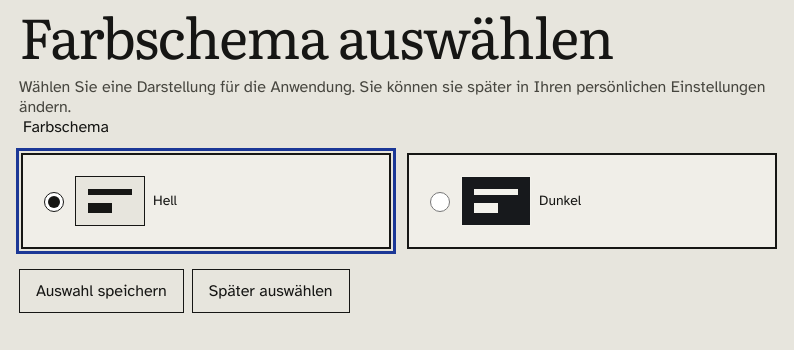
Test: first login theme choice › keeps the choice open and announces a save failure
Click the button "Auswahl speichern": coordinates (101, 291) [19,269,184,313]
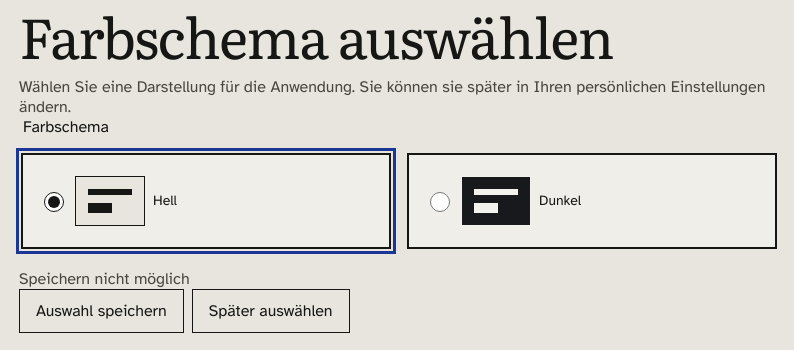
Expected: the button "Auswahl speichern" is enabled, [19,289,184,333]
Result: the message reads "Speichern nicht möglich" at [19,269,190,289]
